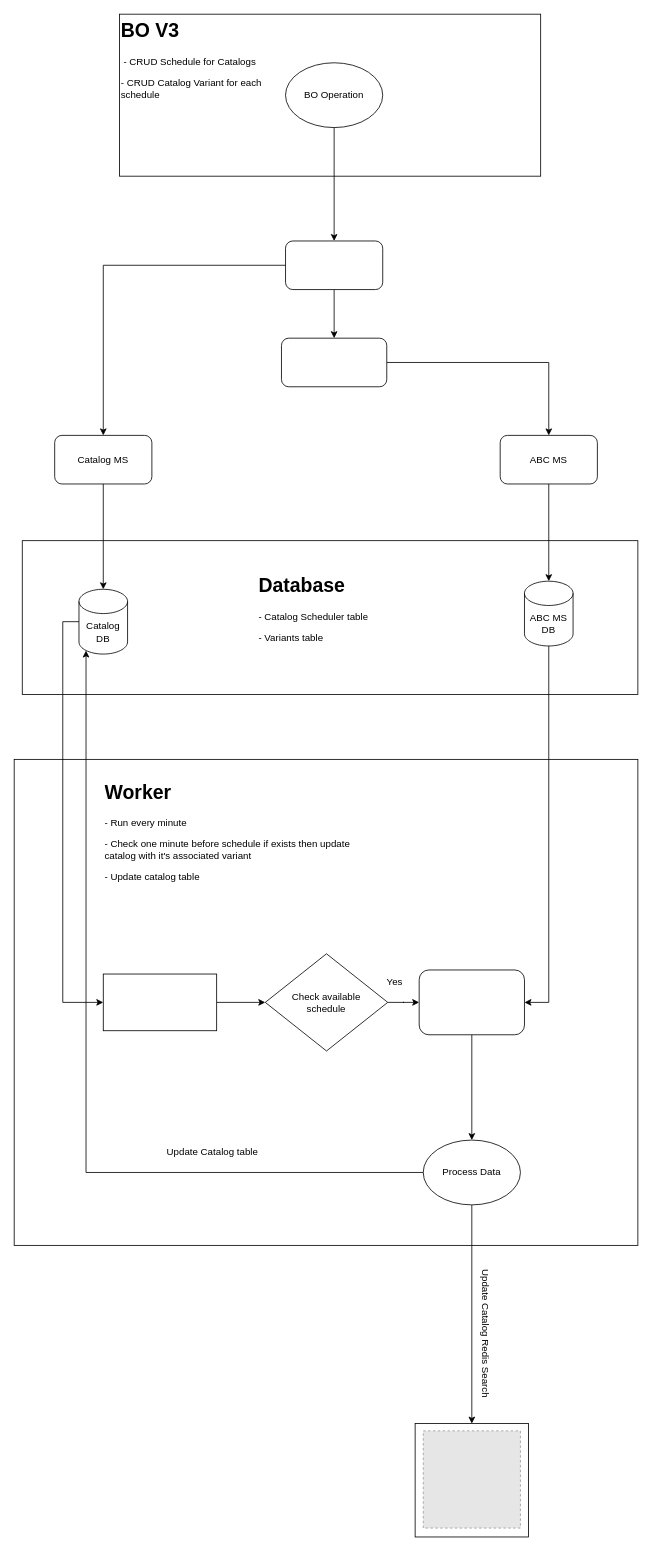
This 652x1551 diagram has some shape labels left out. Grey dashed boxes stand in for pictures. Each missing label, with the centre of its shape:
Catalog Schedule: the point at 334,265
Catalog Variant: the point at 334,362
Read Variants: the point at 471,1002
Worker: the point at 159,1002
